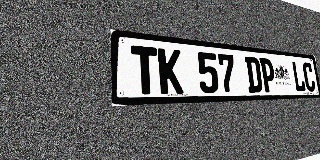5: (197, 52, 220, 93)
7: (216, 54, 237, 93)
C: (302, 62, 316, 92)
D: (244, 56, 263, 93)
K: (158, 48, 184, 94)
L: (291, 61, 306, 92)
P: (259, 58, 276, 92)
T: (131, 45, 159, 95)
